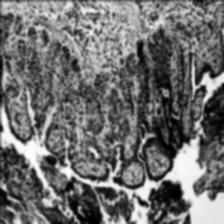Non-Cancerous Skin Condition: (0, 10, 224, 224)
